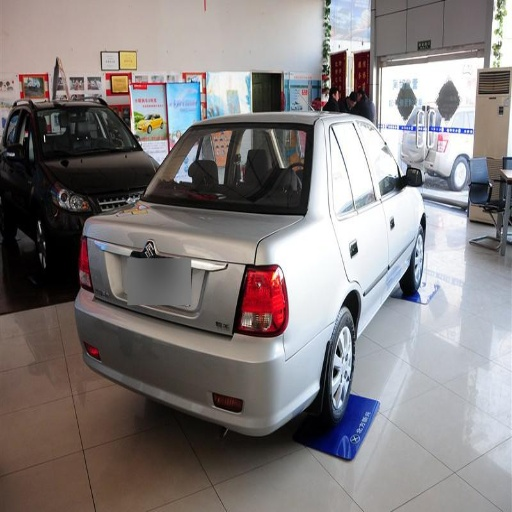back_bumper: (73, 289, 331, 435)
back_right_door: (328, 121, 384, 320)
tailgate: (90, 199, 263, 335)
